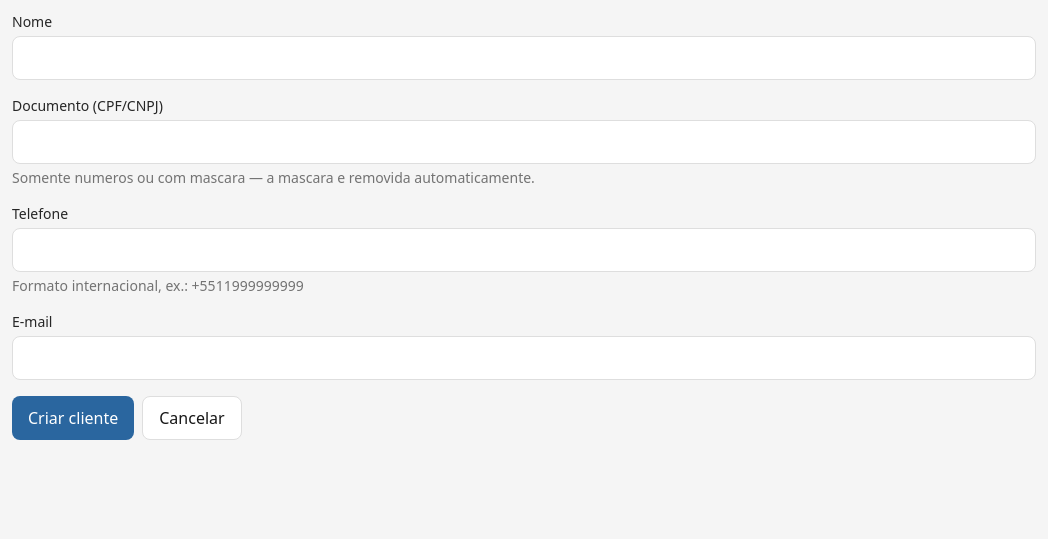
Test: CustomerForm › em 403, mostra mensagem de permissao
Type "Cliente Teste" into the field labelled "Nome" at (524, 58), box [12,36,1036,80]
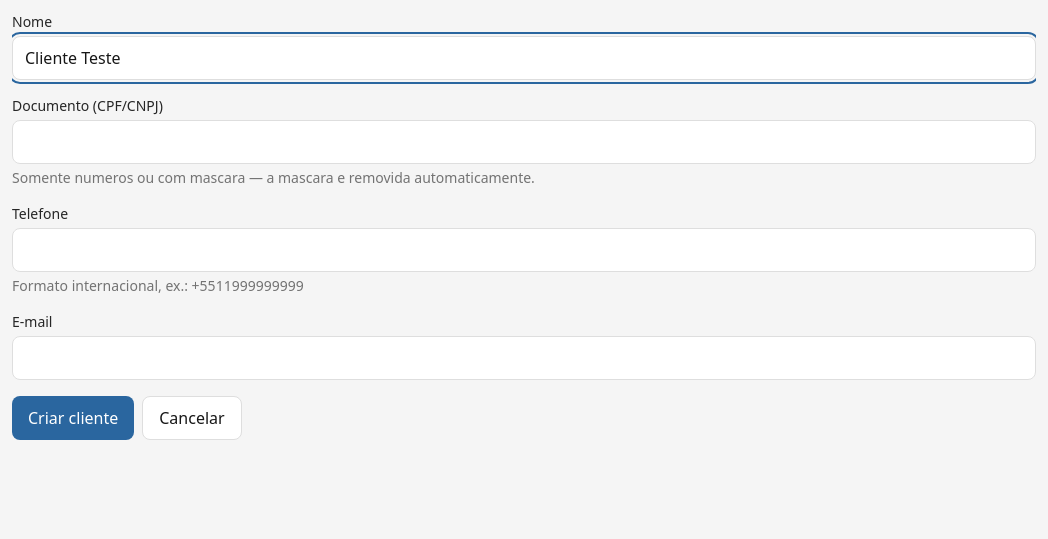
Click the button "Criar cliente" at (73, 418), box [12,396,134,440]
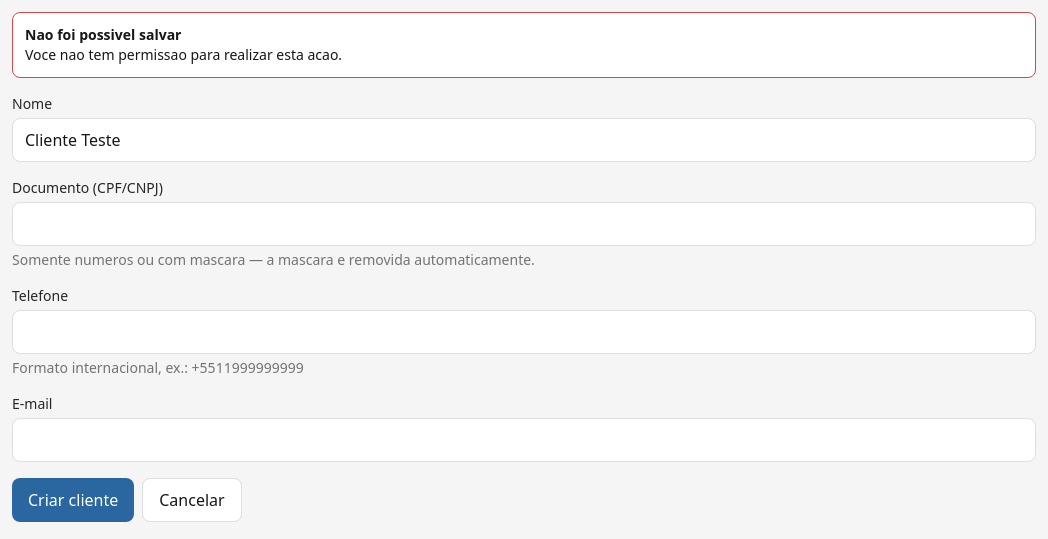
Expected: the text "Voce nao tem permissao para realizar esta acao." is shown, [25,45,342,64]
